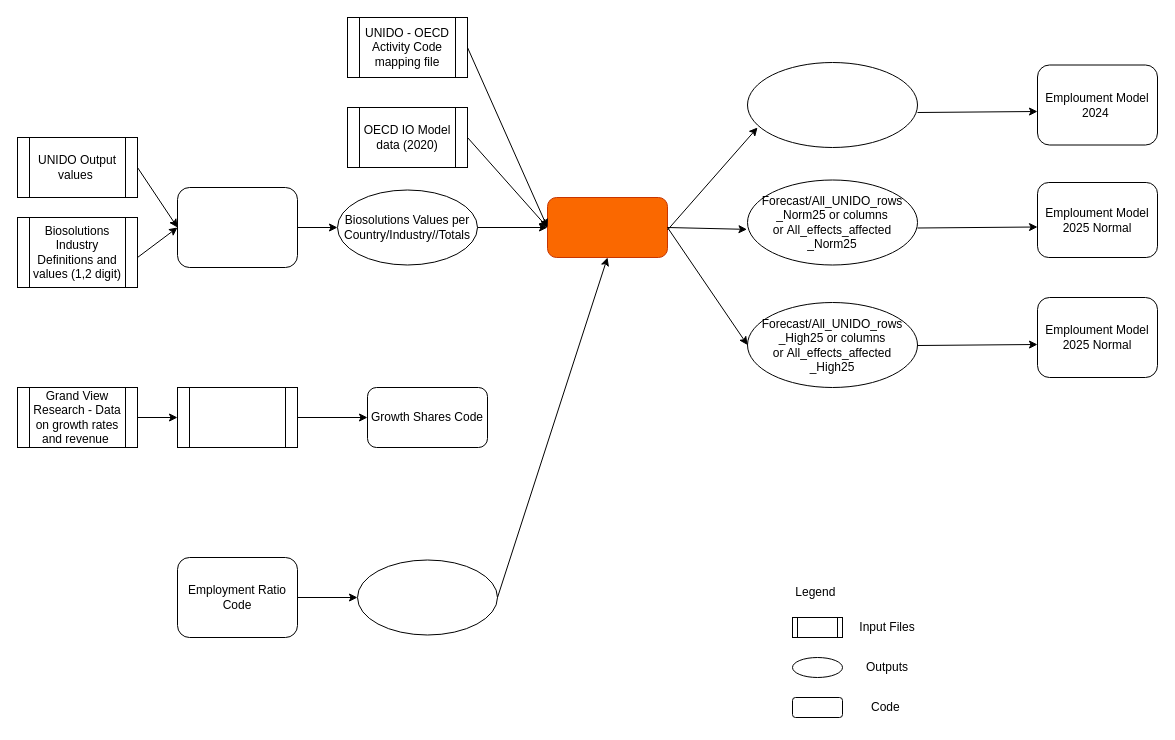
Some shapes in this 1175 by 740 pixel diagram are drawn without their labels. Here are the shapes that lost their labels. From the top down, the centre of each, then its label:
At point (832, 105): "Results/All_UNIDO_rows or columns or All_effects_affected".
At point (237, 227): "Biosolutions Code".
At point (607, 227): "Input Output Model Code".
At point (237, 417): "FD Vector (manual)".
At point (427, 597): "Employment Ratios for each Industry x Country Pair".
